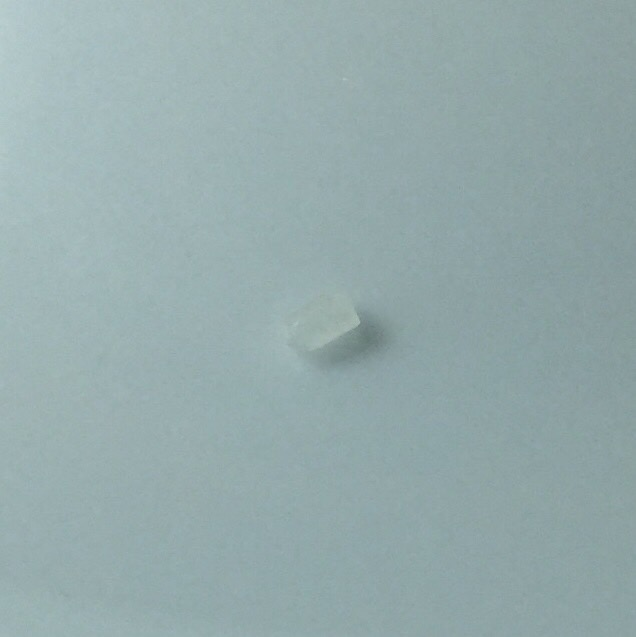Gao Tam: (286, 283, 360, 355)
